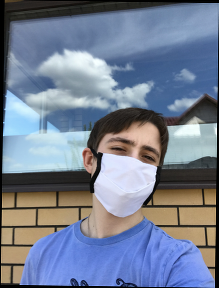with_mask: (89, 126, 162, 219)
